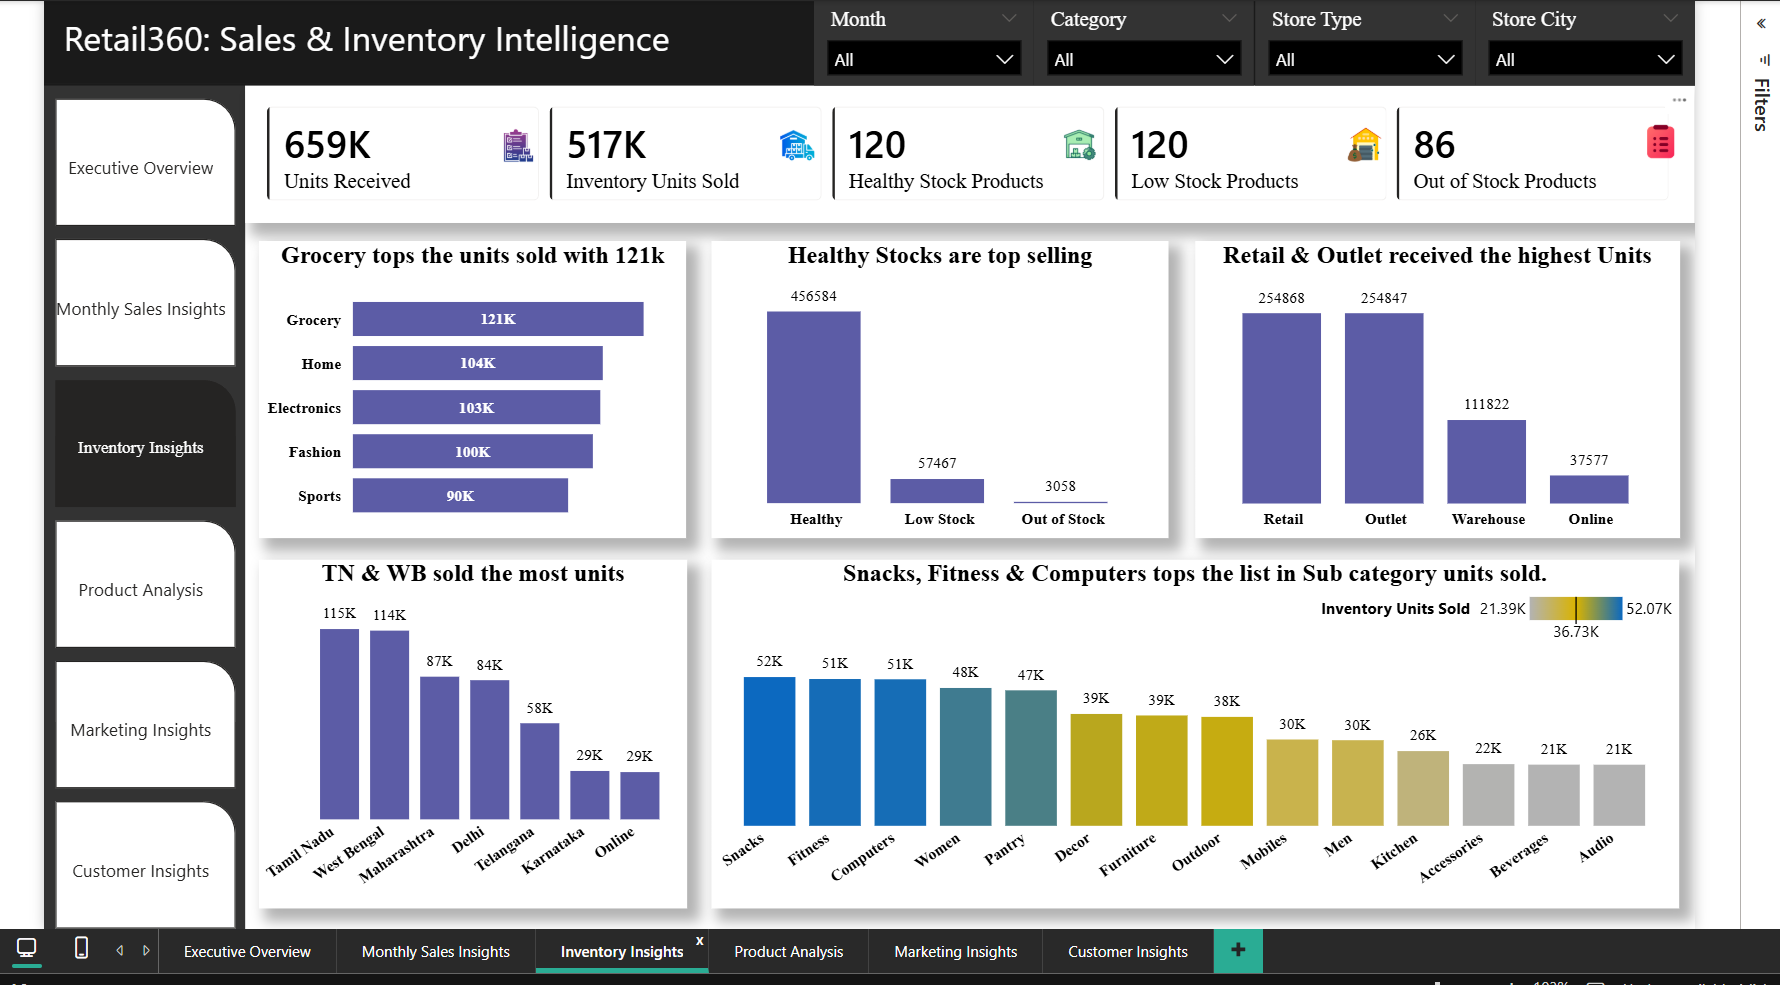

The page's visual inventory and layout, read from the dashboard file:
{"tool":"powerbi","page":{"name":"Inventory Insights","canvas":[1280,720],"ordinal":2},"visuals":[{"type":"textbox","box":[0,65,156.2,655],"z":0},{"type":"cardVisual","fields":{"Data":["Dax measure.Units Received","Dax measure.Inventory Units Sold","Dax measure.Healthy Stock Products","Dax measure.Low Stock Products","Dax measure.Out of Stock Products"]},"box":[156.2,65,1123.8,107.5],"z":1000},{"type":"textbox","box":[0,0,1280.3,65.3],"z":2000},{"type":"slicer","fields":{"Values":["vw_inventory_summary.category"]},"box":[768.2,0,170.7,65.3],"z":3000},{"type":"slicer","fields":{"Values":["vw_store_performance.store_type"]},"box":[938.9,0,170.7,65.3],"z":4000},{"type":"slicer","fields":{"Values":["vw_store_performance.store_city"]},"box":[1109.6,0,170.7,65.3],"z":5000},{"type":"clusteredBarChart","title":"Grocery tops the units sold with 121k","fields":{"Category":["vw_product_performance.category"],"Y":["Dax measure.Inventory Units Sold"]},"box":[166.3,186,331.4,230.2],"z":6000},{"type":"clusteredColumnChart","title":"Healthy Stocks are top selling","fields":{"Category":["vw_inventory_summary.stock_status"],"Y":["Dax measure.Inventory Units Sold"]},"box":[517.9,186.2,354.6,230.5],"z":7000},{"type":"clusteredColumnChart","title":"Retail & Outlet received the highest Units ","fields":{"Y":["Dax measure.Units Received"],"Category":["vw_inventory_summary.store_type"]},"box":[892.3,185.9,375.6,230.8],"z":8000},{"type":"clusteredColumnChart","title":"TN & WB sold the most units","fields":{"Y":["Dax measure.Inventory Units Sold"],"Category":["vw_inventory_summary.store_state"]},"box":[166.7,433.3,332.1,270.5],"z":9000},{"type":"slicer","fields":{"Values":["vw_inventory_summary.inventory_date.Variation.Date Hierarchy.Month"]},"box":[597.4,0,170.5,65.4],"z":10000},{"type":"clusteredColumnChart","title":"Snacks, Fitness & Computers tops the list in Sub category units sold.","fields":{"Y":["Dax measure.Inventory Units Sold"],"Category":["vw_inventory_summary.subcategory"]},"box":[517.9,433.3,750,270.5],"z":11000},{"type":"image","box":[353.5,97.7,27.9,27.9],"z":12000},{"type":"image","box":[570.9,97.7,26.7,27.9],"z":13000},{"type":"image","box":[789.5,97.7,25.6,27.9],"z":14000},{"type":"image","box":[1010.5,95.3,27.9,32.6],"z":15000},{"type":"image","box":[1239.5,95.3,27.9,27.9],"z":16000},{"type":"pageNavigator","box":[8.4,75.9,140.2,644.3],"z":16001}]}

Visuals, with their boxes on the page's 1280x720 design canvas (x1, y1, x2, y2). These are canvas units, not pixel positions in the 1780x985 screenshot, which may show the page scaled, cropped or inside an application window:
textbox: locate(0, 65, 156, 720)
cardVisual - Dax measure.Units Received x Dax measure.Inventory Units Sold: locate(156, 65, 1280, 172)
textbox: locate(0, 0, 1280, 65)
slicer - vw_inventory_summary.category: locate(768, 0, 939, 65)
slicer - vw_store_performance.store_type: locate(939, 0, 1110, 65)
slicer - vw_store_performance.store_city: locate(1110, 0, 1280, 65)
"Grocery tops the units sold with 121k" clusteredBarChart: locate(166, 186, 498, 416)
"Healthy Stocks are top selling" clusteredColumnChart: locate(518, 186, 872, 417)
"Retail & Outlet received the highest Units " clusteredColumnChart: locate(892, 186, 1268, 417)
"TN & WB sold the most units" clusteredColumnChart: locate(167, 433, 499, 704)
slicer - vw_inventory_summary.inventory_date.Variation.Date Hierarchy.Month: locate(597, 0, 768, 65)
"Snacks, Fitness & Computers tops the list in Sub category units sold." clusteredColumnChart: locate(518, 433, 1268, 704)
image: locate(354, 98, 381, 126)
image: locate(571, 98, 598, 126)
image: locate(790, 98, 815, 126)
image: locate(1010, 95, 1038, 128)
image: locate(1240, 95, 1267, 123)
pageNavigator: locate(8, 76, 149, 720)
